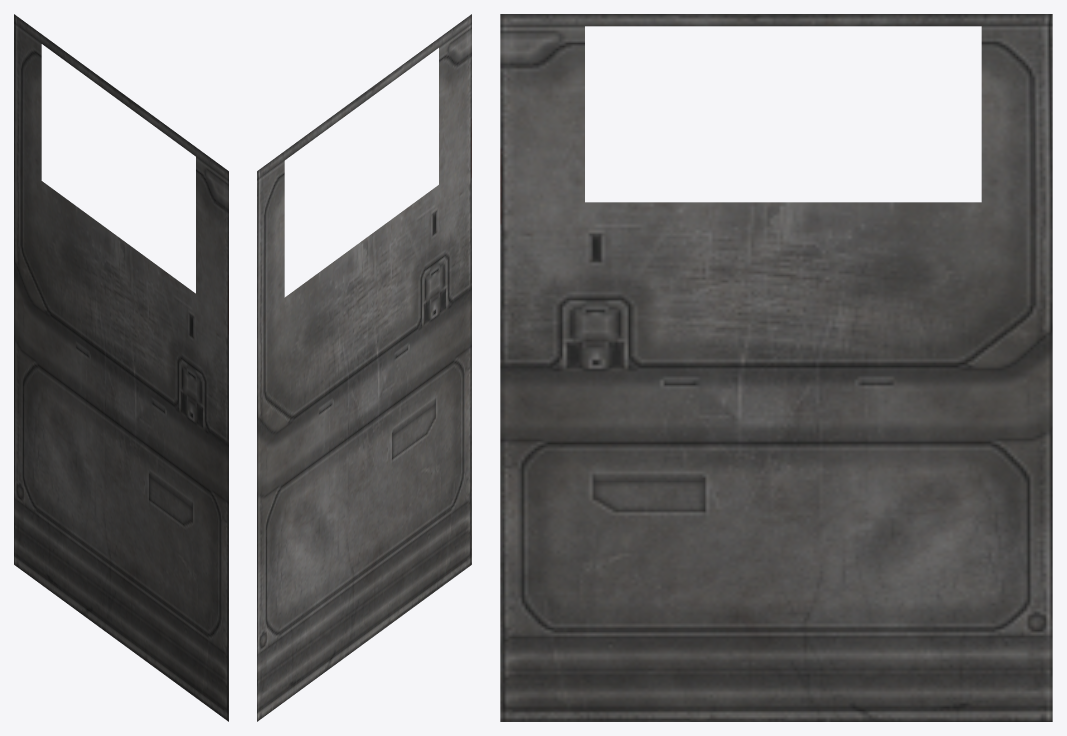
The model's file is 04_02_reactorwall_small_window.DAE.
The picture shows the model from 3 angles, left to right: view 1: azimuth 30°, elevation 25°; view 2: azimuth 150°, elevation 25°; view 3: azimuth 270°, elevation 25°; orthographic projection. The views are drawn at different scales.
Visible parts, largest first — view 1: Object003; view 2: Object003; view 3: Object003.
Boxes of the visible parts, x1,y1,x2,y2 form: Object003: (14,14,228,721); Object003: (257,14,471,721); Object003: (500,14,1052,721).
Size of the model in its own units: 1e-06 by 8 by 5.66.
